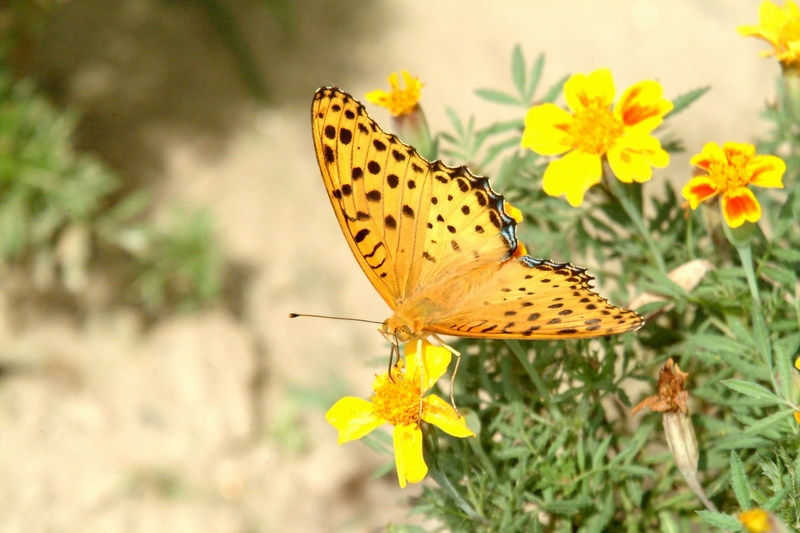Argyreus hyperbius: (281, 74, 649, 416)
butterfly: (283, 76, 651, 418)
